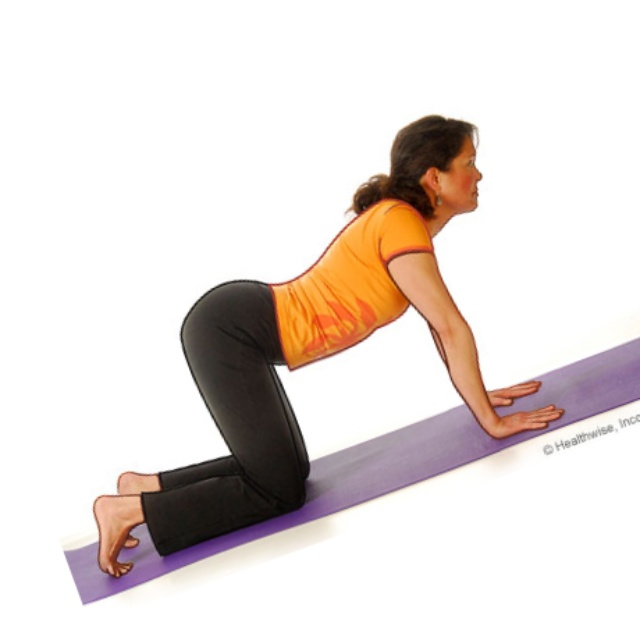Cow_Pose: (91, 113, 567, 582)
